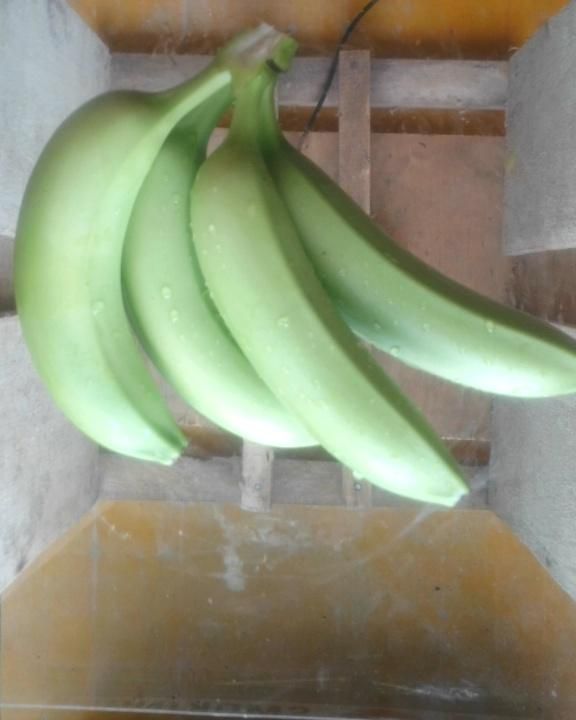SPOT: (11, 16, 576, 513)
